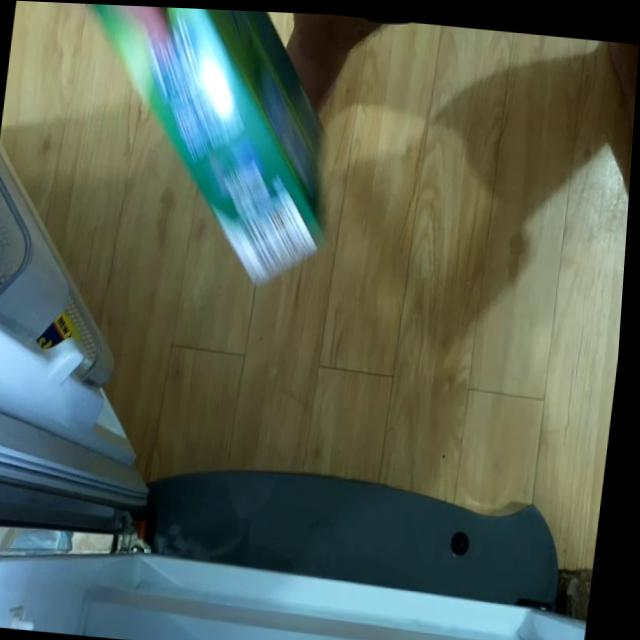milk: (57, 2, 350, 277)
